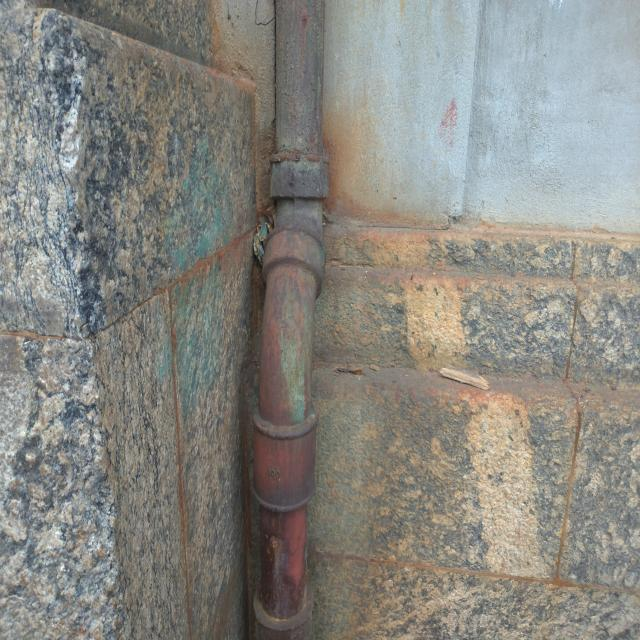gas: (253, 1, 327, 631)
